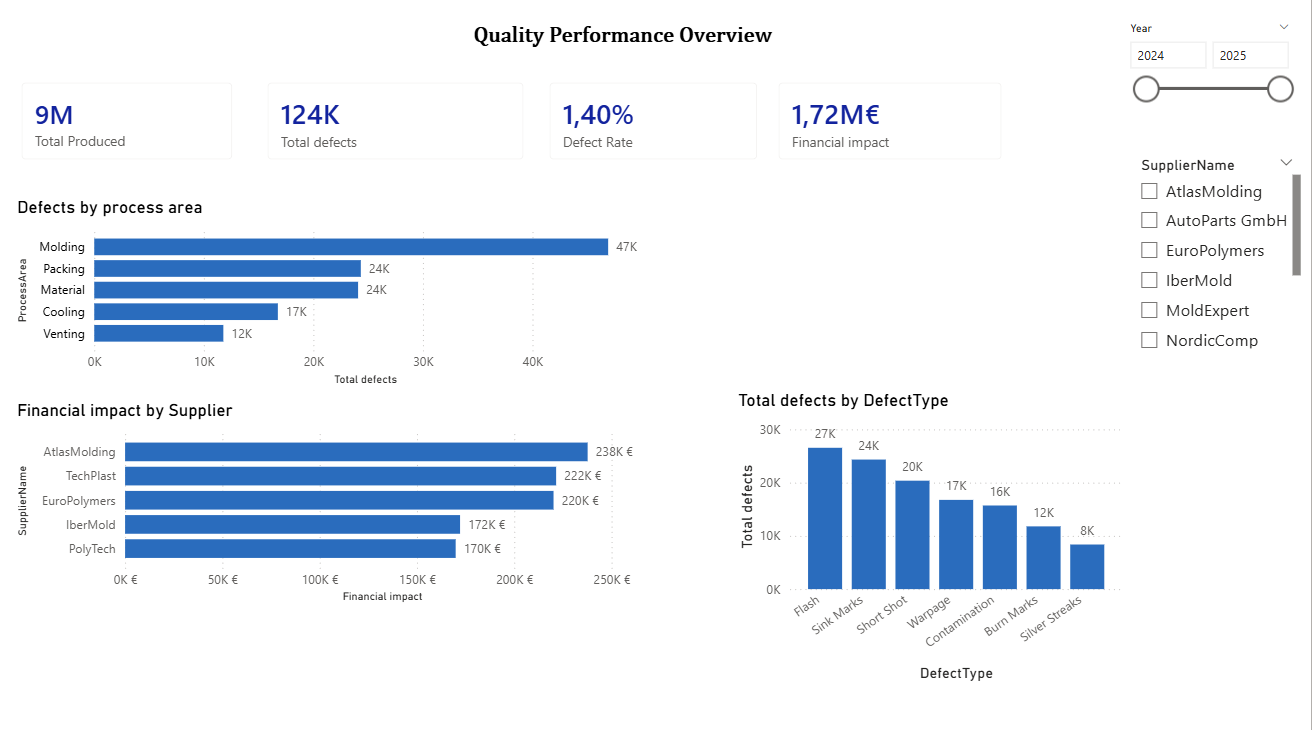

The dashboard page shown, as its layout file describes it:
{"tool":"powerbi","page":{"name":"Overview","canvas":[1280,720],"ordinal":0},"visuals":[{"type":"cardVisual","fields":{"Data":["factProduction.Total Produced"]},"box":[9,70,239,109],"z":0},{"type":"cardVisual","fields":{"Data":["factProduction.Total defects"]},"box":[248,70,283,109],"z":1},{"type":"cardVisual","fields":{"Data":["factProduction.Defect Rate"]},"box":[522,70,236,109],"z":2},{"type":"cardVisual","fields":{"Data":["factProduction.Financial impact"]},"box":[745,70,251,109],"z":3},{"type":"clusteredBarChart","title":"Defects by process area","fields":{"Category":["dimDefectTypes.ProcessArea"],"Y":["factProduction.Total defects"]},"box":[17,198,623,188],"z":4},{"type":"clusteredBarChart","title":"Financial impact by Supplier","fields":{"Category":["dimSuppliers.SupplierName"],"Y":["factProduction.Financial impact"]},"box":[17,396,633,202],"z":5},{"type":"clusteredColumnChart","fields":{"Category":["dimDefectTypes.DefectType"],"Y":["factProduction.Total defects"]},"box":[718,386,384,288],"z":6},{"type":"slicer","fields":{"Values":["dimCalendar.Year"]},"box":[1091,23,180,131],"z":7},{"type":"slicer","fields":{"Values":["dimSuppliers.SupplierName"]},"box":[1102,154,173,197],"z":8},{"type":"textbox","box":[460,23,388,47],"z":9}]}

Visuals, with their boxes in screenshot pixels (x1, y1, x2, y2), scaled from the page's 1280x720 canvas onto the 1312x730 screenshot:
cardVisual - factProduction.Total Produced: 9/71/254/181
cardVisual - factProduction.Total defects: 254/71/544/181
cardVisual - factProduction.Defect Rate: 535/71/777/181
cardVisual - factProduction.Financial impact: 764/71/1021/181
"Defects by process area" clusteredBarChart: 17/201/656/391
"Financial impact by Supplier" clusteredBarChart: 17/402/666/606
clusteredColumnChart - dimDefectTypes.DefectType x factProduction.Total defects: 736/391/1130/683
slicer - dimCalendar.Year: 1118/23/1303/156
slicer - dimSuppliers.SupplierName: 1130/156/1307/356
textbox: 471/23/869/71
